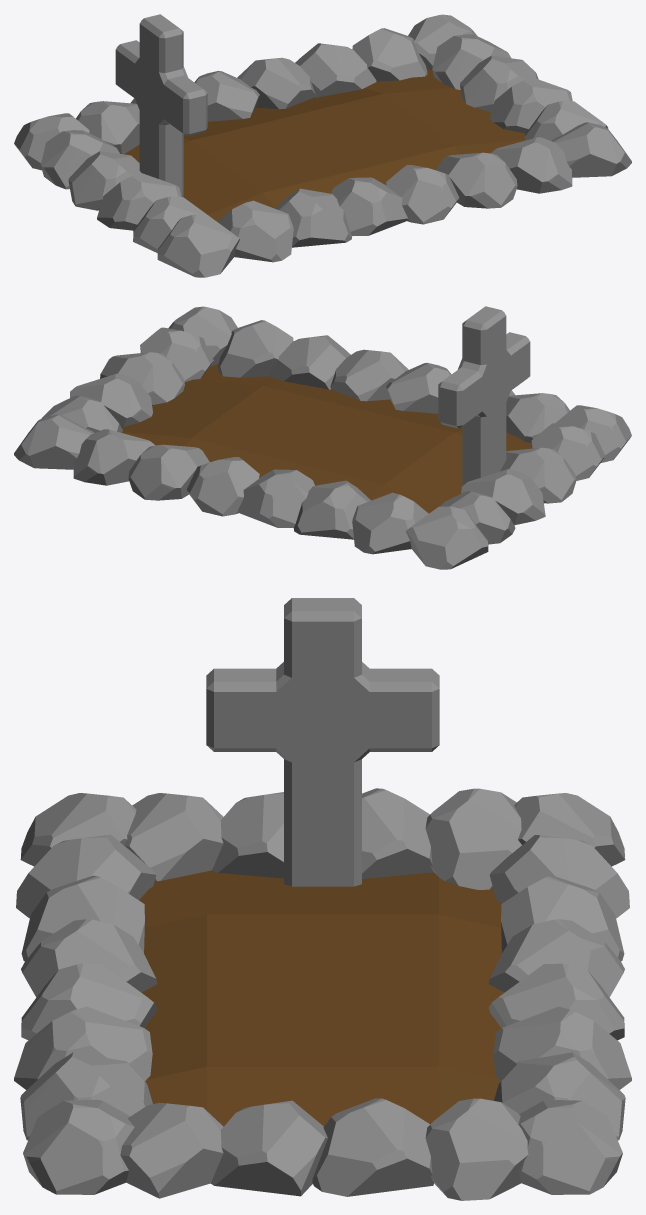
The model's file is Gravestone.fbx.
The picture shows the model from 3 angles, top to bottom: view 1: azimuth 30°, elevation 25°; view 2: azimuth 150°, elevation 25°; view 3: azimuth 270°, elevation 25°; orthographic projection. The views are drawn at different scales.
Parts seen in each view (by area): view 1: Icosphere, Plane, Icosphere.001, Cube; view 2: Icosphere, Plane, Icosphere.001, Cube; view 3: Icosphere, Plane, Icosphere.001, Cube.
Part boxes in pixels (x1=…): Icosphere: x1=14, y1=14, x2=631, y2=277; Plane: x1=124, y1=68, x2=525, y2=221; Icosphere.001: x1=40, y1=34, x2=608, y2=252; Cube: x1=115, y1=14, x2=207, y2=196; Icosphere: x1=14, y1=306, x2=631, y2=569; Plane: x1=121, y1=363, x2=532, y2=513; Icosphere.001: x1=41, y1=327, x2=605, y2=544; Cube: x1=438, y1=306, x2=530, y2=485; Icosphere: x1=14, y1=793, x2=631, y2=1194; Plane: x1=139, y1=870, x2=503, y2=1126; Icosphere.001: x1=120, y1=788, x2=528, y2=1200; Cube: x1=206, y1=598, x2=439, y2=886.
Bounding box in the file's own units: 1131 × 402 × 795.
